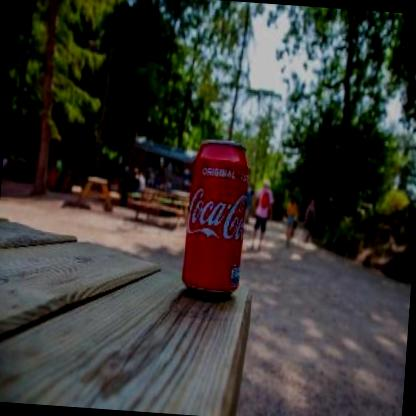alumunium_can: (180, 135, 252, 301)
